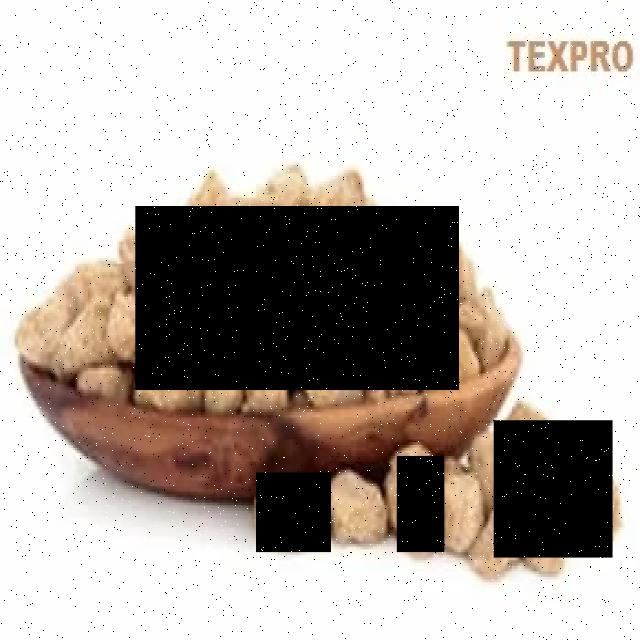Nutrela: (135, 208, 459, 392), (496, 421, 614, 558), (258, 475, 332, 554), (397, 456, 445, 552)
